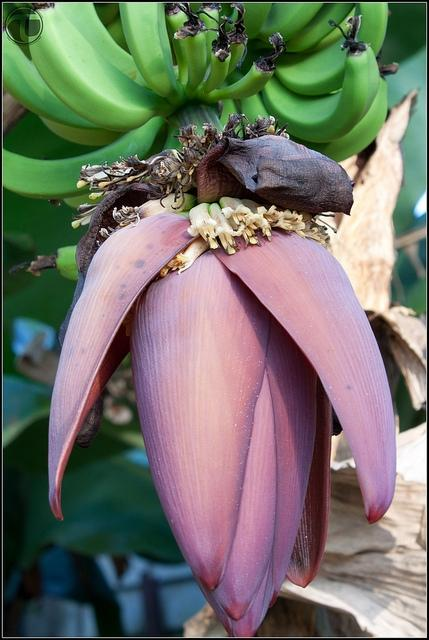banana: (28, 3, 176, 131), (264, 17, 380, 142), (4, 114, 170, 198), (3, 30, 109, 130), (275, 3, 388, 96), (52, 0, 153, 92), (284, 76, 388, 163), (120, 2, 187, 108), (246, 2, 356, 52), (253, 4, 324, 44), (39, 115, 128, 146), (9, 245, 78, 281), (225, 3, 273, 42), (182, 30, 206, 100), (219, 99, 244, 138)
